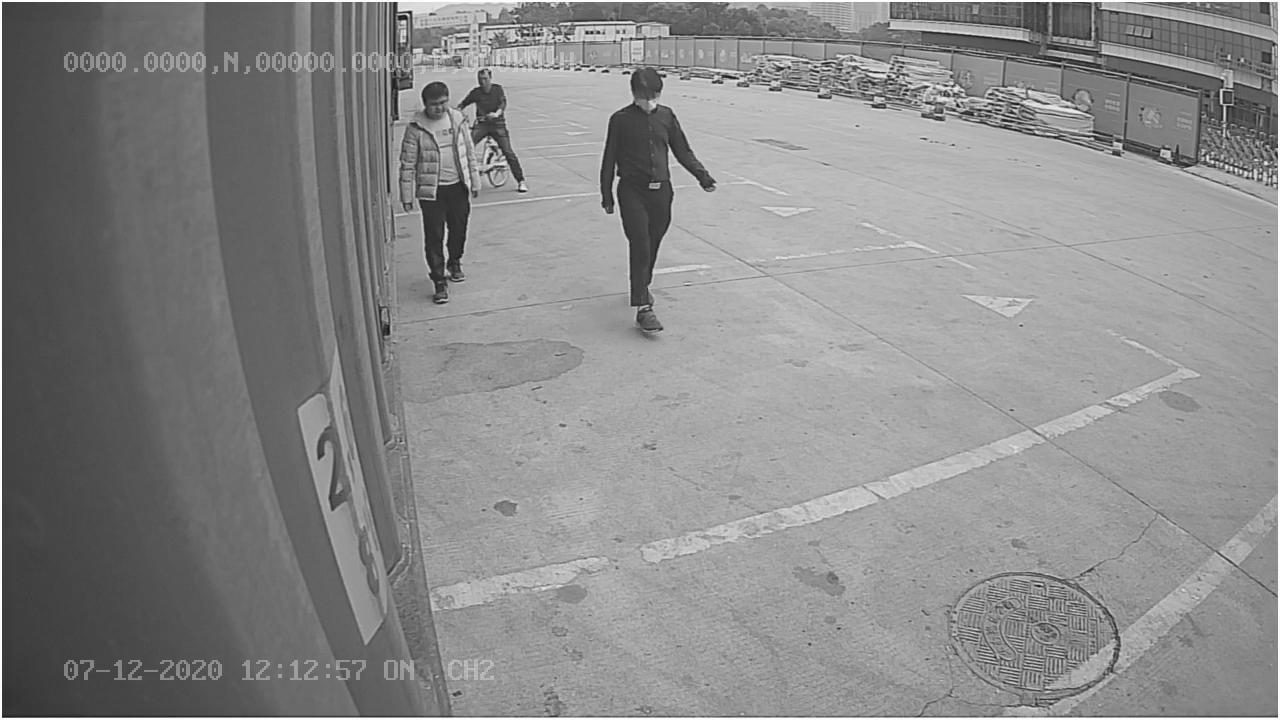person: (600, 60, 717, 340)
